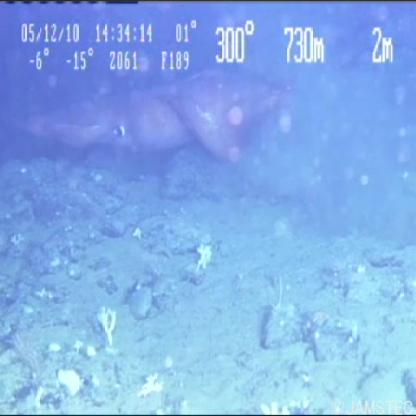Bio: (1, 63, 302, 160)
